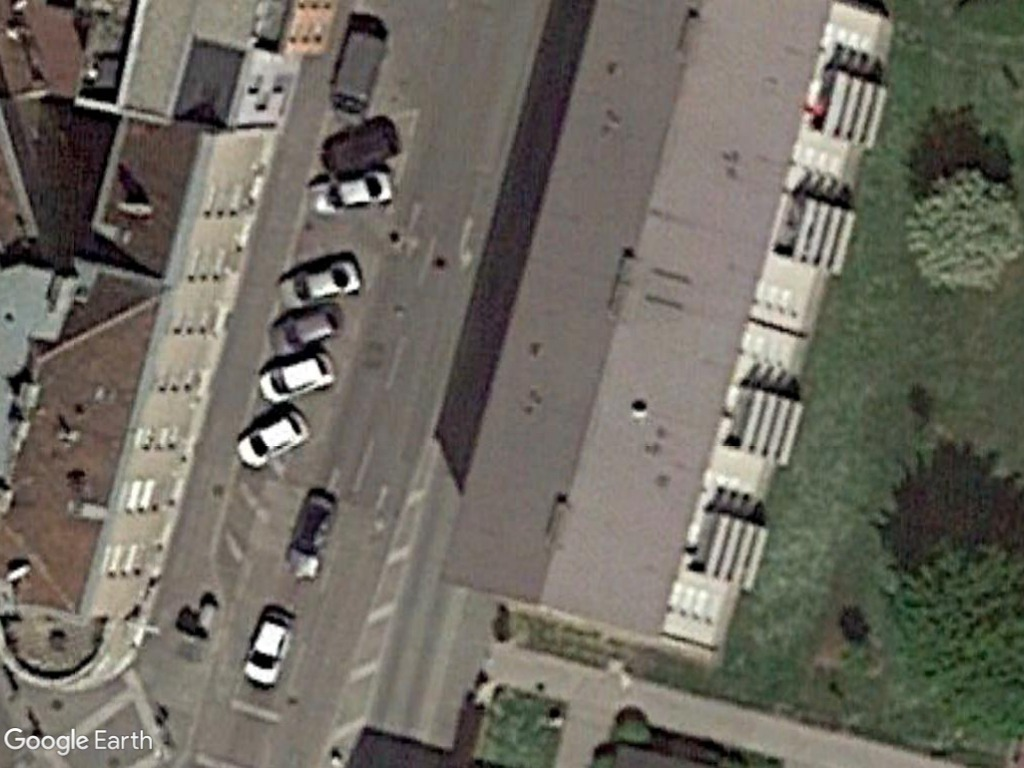car: (235, 602, 300, 692), (224, 408, 316, 469), (246, 350, 339, 408), (271, 257, 366, 310), (263, 299, 351, 355), (301, 170, 403, 218)
